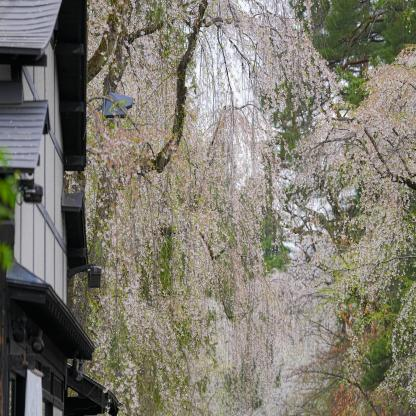ShidareZakura: (64, 1, 416, 416)
